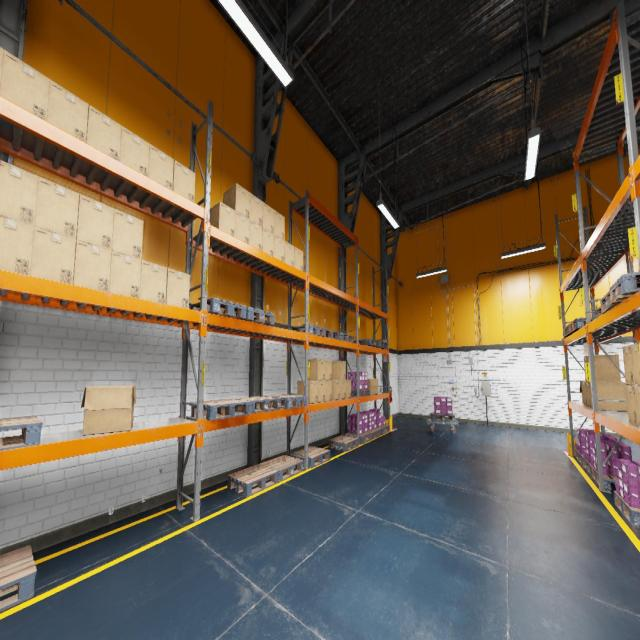box: (0, 50, 50, 120), (34, 176, 80, 238), (81, 385, 136, 435), (30, 227, 76, 284), (47, 80, 88, 142), (0, 160, 38, 226), (76, 194, 114, 250), (0, 216, 34, 276), (73, 240, 111, 292), (86, 105, 121, 160), (112, 208, 143, 260), (110, 251, 142, 298), (120, 126, 149, 176), (148, 144, 174, 190), (140, 260, 167, 304), (589, 382, 628, 411), (584, 354, 620, 381), (223, 183, 250, 219), (166, 268, 190, 308), (173, 160, 195, 202), (210, 202, 235, 236), (626, 385, 638, 426), (297, 380, 318, 403), (235, 211, 249, 244), (623, 345, 634, 384), (630, 343, 640, 385), (250, 192, 262, 226), (249, 220, 262, 250), (262, 202, 274, 234), (308, 358, 325, 380), (262, 228, 274, 256), (274, 210, 285, 240), (284, 240, 294, 266), (274, 235, 284, 261), (634, 385, 640, 427), (332, 361, 346, 379), (294, 246, 303, 271), (0, 47, 4, 88), (332, 380, 340, 400), (582, 381, 588, 407), (318, 380, 325, 402), (368, 379, 378, 394), (325, 360, 332, 380), (325, 381, 332, 401), (586, 382, 591, 408), (580, 380, 585, 403), (340, 380, 346, 399), (346, 379, 351, 398)
pallets: (0, 545, 36, 612), (227, 464, 278, 497), (0, 415, 42, 450), (191, 298, 246, 320), (191, 400, 251, 420), (260, 455, 303, 482), (600, 287, 640, 314), (609, 271, 640, 304), (614, 491, 640, 528), (231, 396, 280, 413), (293, 446, 330, 468), (236, 306, 274, 326), (591, 465, 618, 491), (265, 394, 307, 408), (328, 435, 359, 452), (291, 324, 326, 337), (569, 316, 596, 332), (346, 431, 372, 444), (430, 412, 455, 422), (356, 338, 380, 347), (333, 333, 354, 343), (320, 330, 340, 340), (582, 456, 591, 476), (368, 428, 382, 438), (376, 424, 390, 434), (351, 389, 370, 396), (575, 449, 583, 465), (564, 324, 572, 337), (374, 341, 387, 348), (595, 306, 602, 318)
